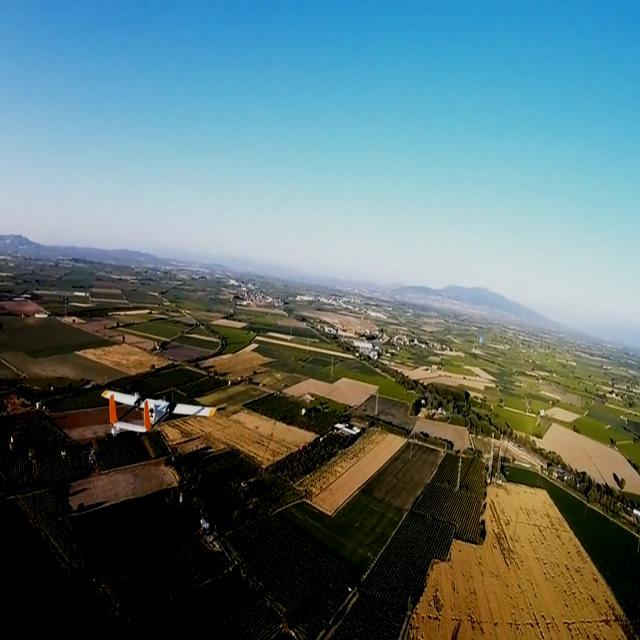iha: (130, 383, 187, 443)
